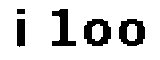1: (47, 8, 79, 51)
i: (8, 5, 33, 52)
o: (118, 17, 150, 51), (82, 18, 114, 50)
